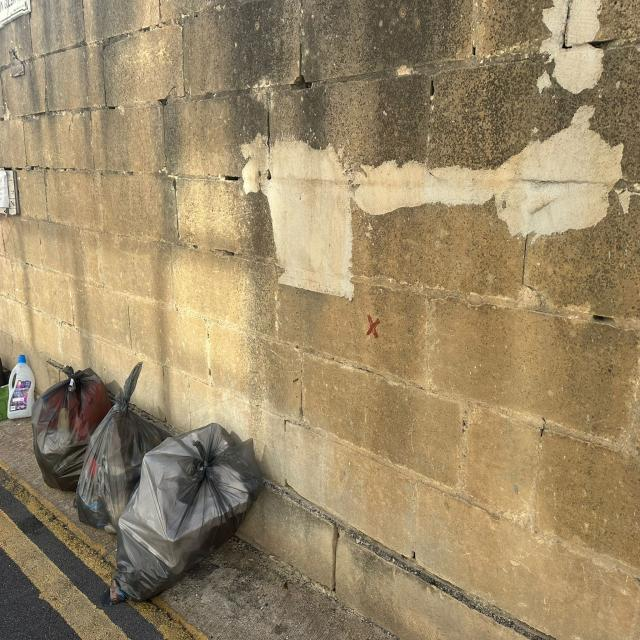black_bag: (114, 420, 263, 604), (73, 386, 174, 526), (30, 367, 108, 491)
other_waste: (0, 350, 35, 426)
